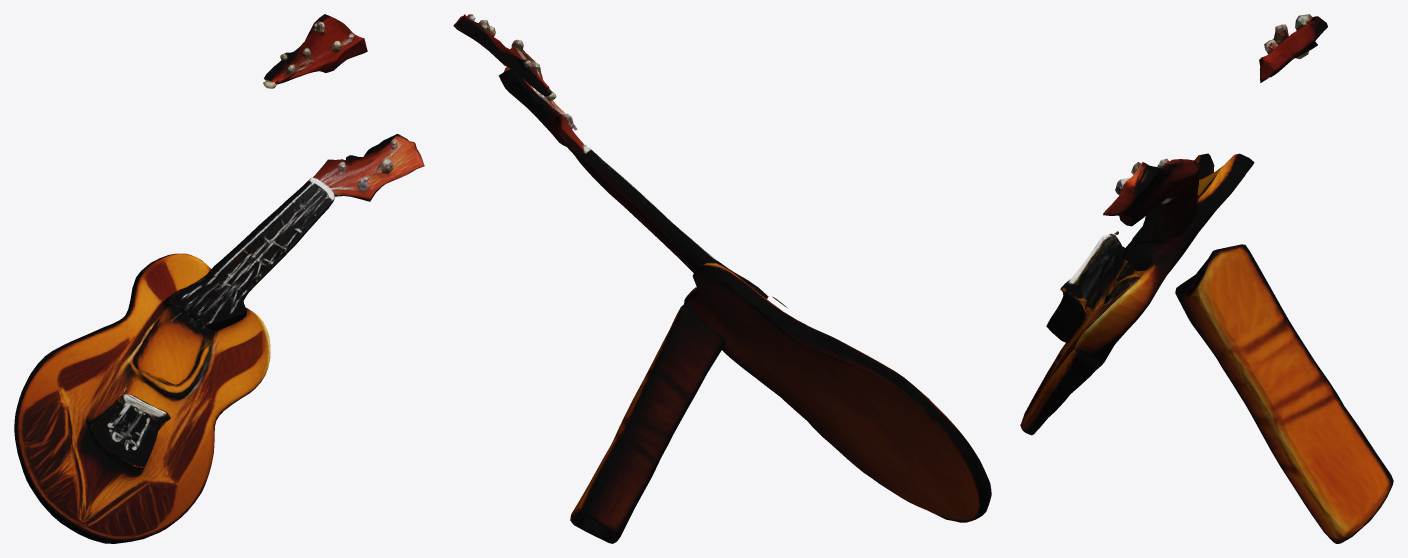
File: wooden-ukulele-art-deco.jpeg.glb
The picture shows the model from 3 angles, left to right: view 1: azimuth 30°, elevation 25°; view 2: azimuth 150°, elevation 25°; view 3: azimuth 270°, elevation 25°; orthographic projection. The views are drawn at different scales.
Visible parts, largest first — view 1: world; view 2: world; view 3: world.
Part boxes in pixels (x1,y1,x2,y2): world: (14,14,424,543); world: (453,14,991,543); world: (1020,14,1393,543).
Size of the model in its own units: 0.9997 by 0.9585 by 0.5227.
1 material, 1 textured.
